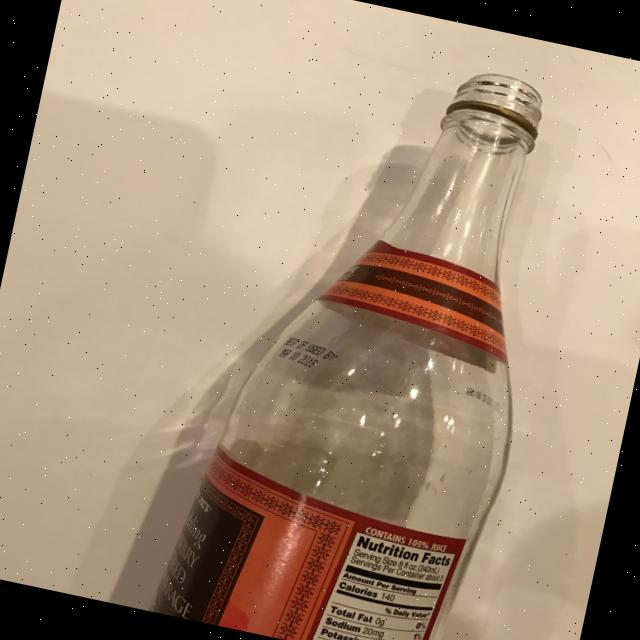glass: (148, 25, 587, 640)
